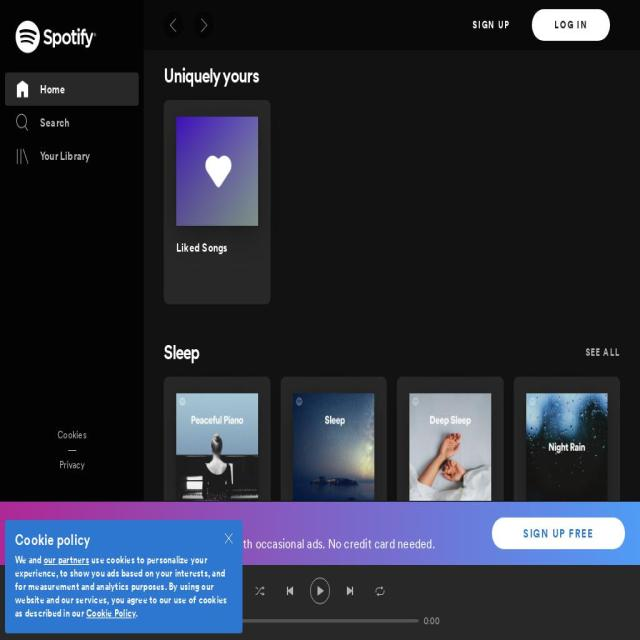button: (0, 20, 144, 72), (5, 72, 139, 106), (5, 139, 139, 173), (5, 106, 139, 139), (491, 518, 625, 549), (450, 9, 532, 41), (532, 9, 610, 41), (409, 515, 492, 533), (176, 238, 258, 256), (176, 515, 258, 533), (292, 515, 374, 533), (526, 515, 608, 533), (215, 520, 243, 565), (585, 342, 620, 361), (585, 619, 620, 638), (164, 624, 201, 640), (164, 348, 199, 363), (164, 12, 184, 38), (194, 12, 214, 38), (58, 427, 86, 444), (60, 457, 84, 474)
heading: (164, 64, 258, 314), (164, 340, 199, 590), (163, 616, 201, 640)
image: (0, 0, 640, 640), (409, 393, 492, 502), (176, 117, 258, 226), (176, 393, 258, 502), (292, 393, 374, 502), (526, 393, 608, 502), (15, 20, 97, 53), (22, 619, 222, 623), (15, 79, 30, 99), (15, 112, 30, 132), (15, 146, 30, 166), (167, 16, 181, 34), (197, 16, 211, 34), (225, 534, 233, 544)
link: (86, 607, 136, 619), (43, 553, 89, 566)
text: (15, 553, 227, 619), (24, 534, 435, 553), (24, 517, 435, 531), (409, 536, 480, 579), (15, 533, 233, 547), (526, 536, 586, 579), (176, 536, 257, 564), (292, 536, 372, 564), (40, 114, 139, 131), (40, 81, 139, 97), (40, 148, 139, 164), (409, 515, 492, 533), (176, 238, 258, 256), (176, 515, 258, 533), (292, 515, 374, 533), (526, 515, 608, 533), (585, 345, 620, 358), (585, 622, 620, 635), (15, 553, 44, 566), (196, 614, 221, 628), (419, 614, 444, 628), (136, 607, 138, 619)
